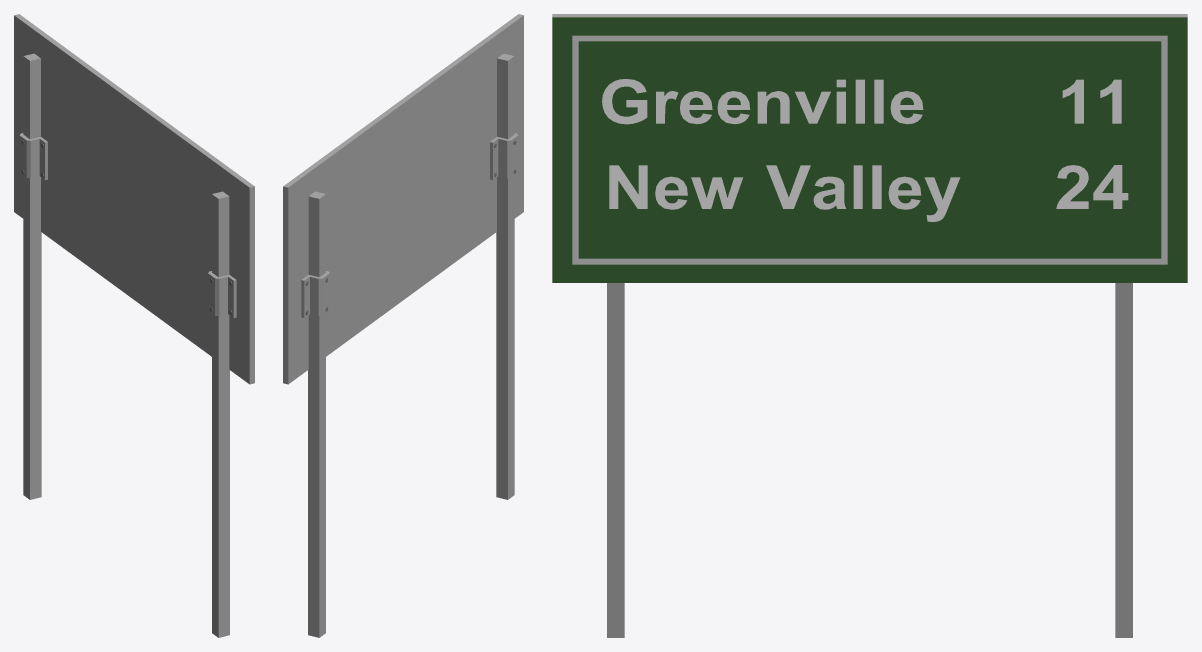
The model's file is SM_road_sign_8.gltf.
3 views of the same model, side by side, from view 1: azimuth 30°, elevation 25°; view 2: azimuth 150°, elevation 25°; view 3: azimuth 270°, elevation 25° (orthographic). The views are drawn at different scales.
Parts seen in each view (by area): view 1: SM_road_sign_8; view 2: SM_road_sign_8; view 3: SM_road_sign_8.
Boxes of the visible parts, x1,y1,x2,y2 form: SM_road_sign_8: (14,14,254,637); SM_road_sign_8: (283,14,523,637); SM_road_sign_8: (552,14,1187,637).
Size of the model in its own units: 0.0848 by 1.82 by 1.68.
1 material, 1 textured.
